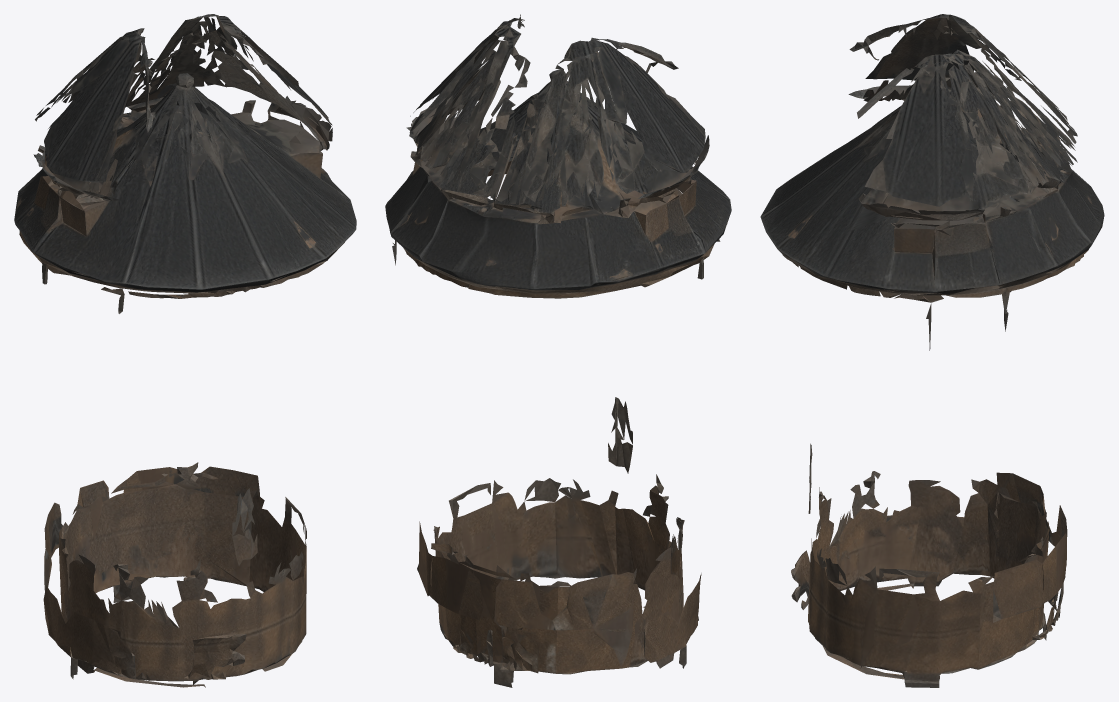
File: roof-cistern.glb
3 views of the same model, side by side, from view 1: azimuth 30°, elevation 25°; view 2: azimuth 150°, elevation 25°; view 3: azimuth 270°, elevation 25° (orthographic). The views are drawn at different scales.
Visible parts, largest first — view 1: Mesh_0; view 2: Mesh_0; view 3: Mesh_0.
Part boxes in pixels (x1,y1,x2,y2): Mesh_0: (14,14,356,687); Mesh_0: (385,14,731,687); Mesh_0: (760,14,1104,687).
Size of the model in its own units: 0.4638 by 0.9195 by 0.4714.
Materials: 1 (1 with a texture image).
